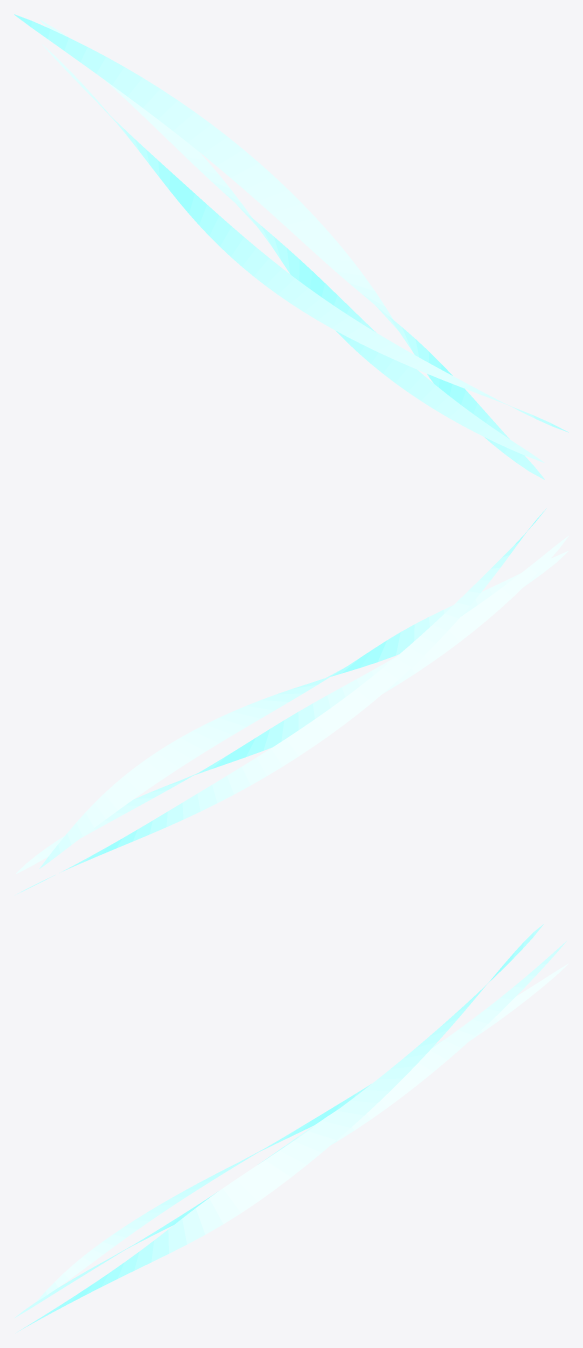
The model's file is descent_wake.glb.
3 views of the same model, one above another, from view 1: azimuth 30°, elevation 25°; view 2: azimuth 150°, elevation 25°; view 3: azimuth 330°, elevation 25° (orthographic). The views are drawn at different scales.
Visible parts, largest first — view 1: descent_wake; view 2: descent_wake; view 3: descent_wake.
Boxes of the visible parts, box(x1,y1,x2,y2) form: descent_wake: box(14, 14, 568, 479); descent_wake: box(16, 508, 568, 893); descent_wake: box(15, 924, 568, 1331).
Bounding box in the file's own units: 0.0974 × 0.0753 × 1.1.
